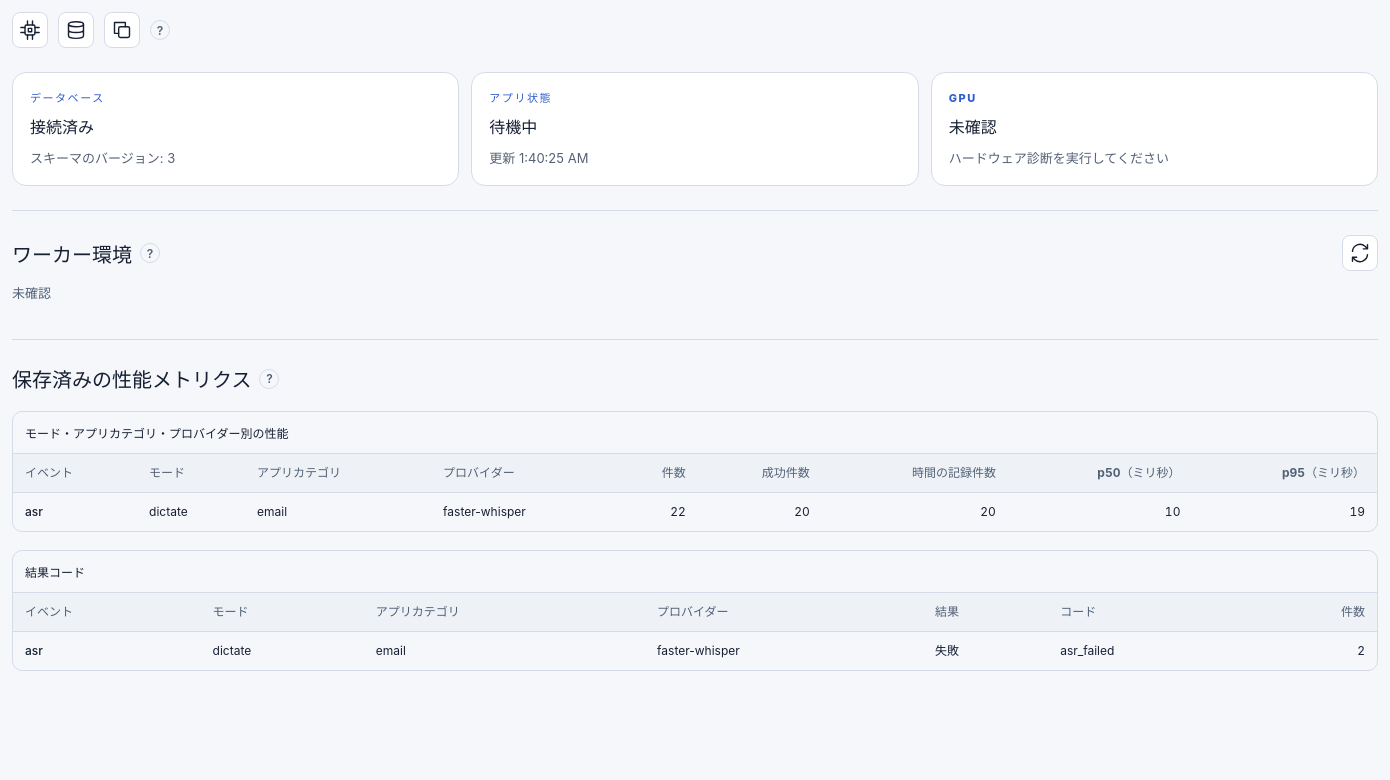
Scenario: failed refresh removes stale data and disables copy
This screenshot has width=1390, height=780.
expect the table "モード・アプリカテゴリ・プロバイダー別の性能" is shown: met, box left=13, top=412, right=1377, bottom=531
Click the button named "データベースを検査". click: (76, 30)
box: left=58, top=12, right=94, bottom=48
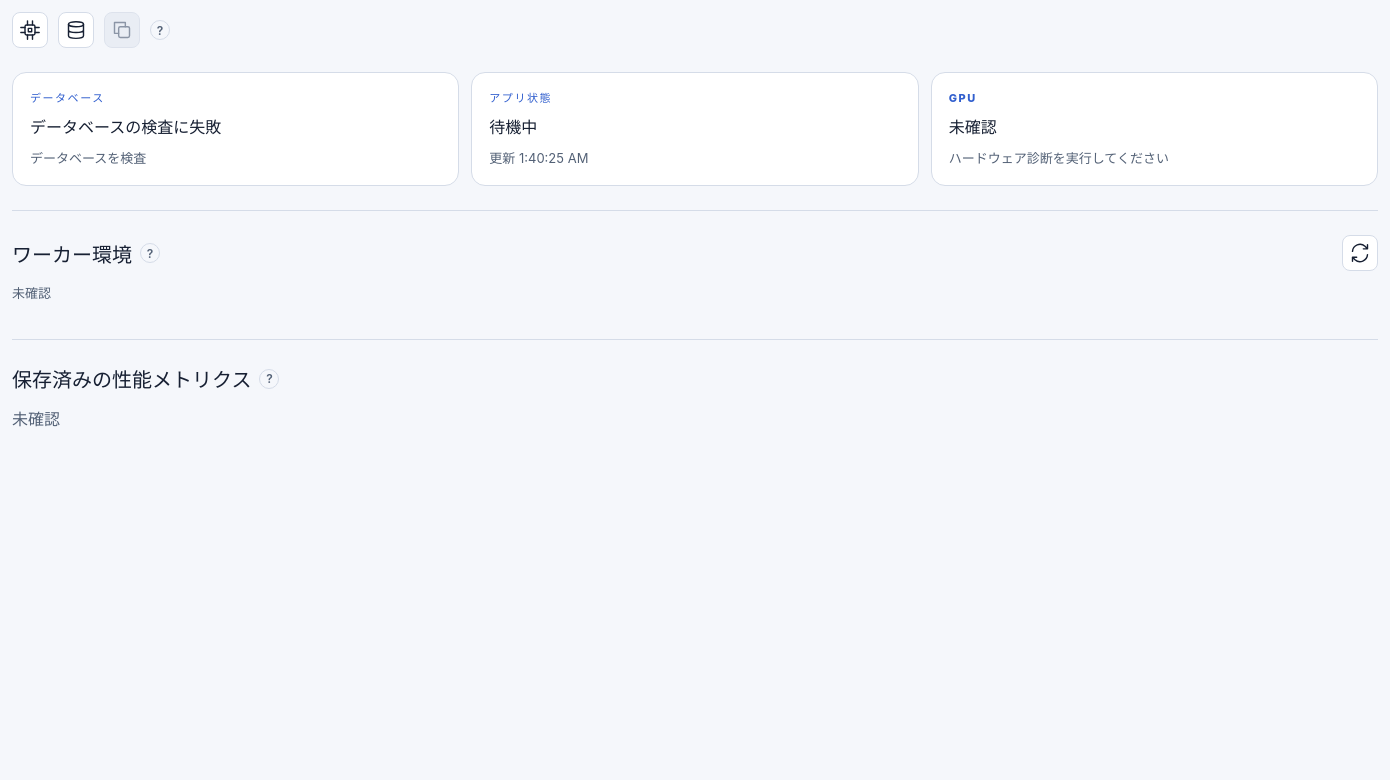
expect the heading "データベースの検査に失敗" is shown: met, box left=30, top=117, right=221, bottom=137
expect the table is gone: met
expect the button named "診断結果をコピー" is disabled: met, box left=104, top=12, right=140, bottom=48
